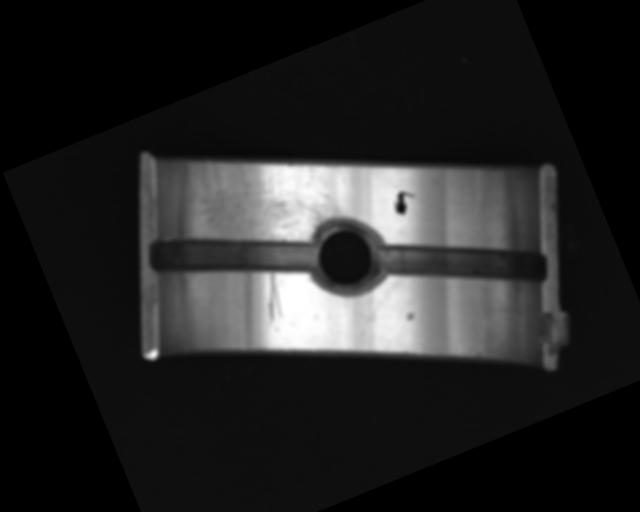blot: (389, 186, 421, 218)
bruise: (403, 310, 417, 322)
gap: (369, 190, 552, 336), (144, 187, 319, 323)
hole: (296, 205, 395, 305)
nick: (252, 269, 291, 324)
scratch: (177, 110, 353, 270)
